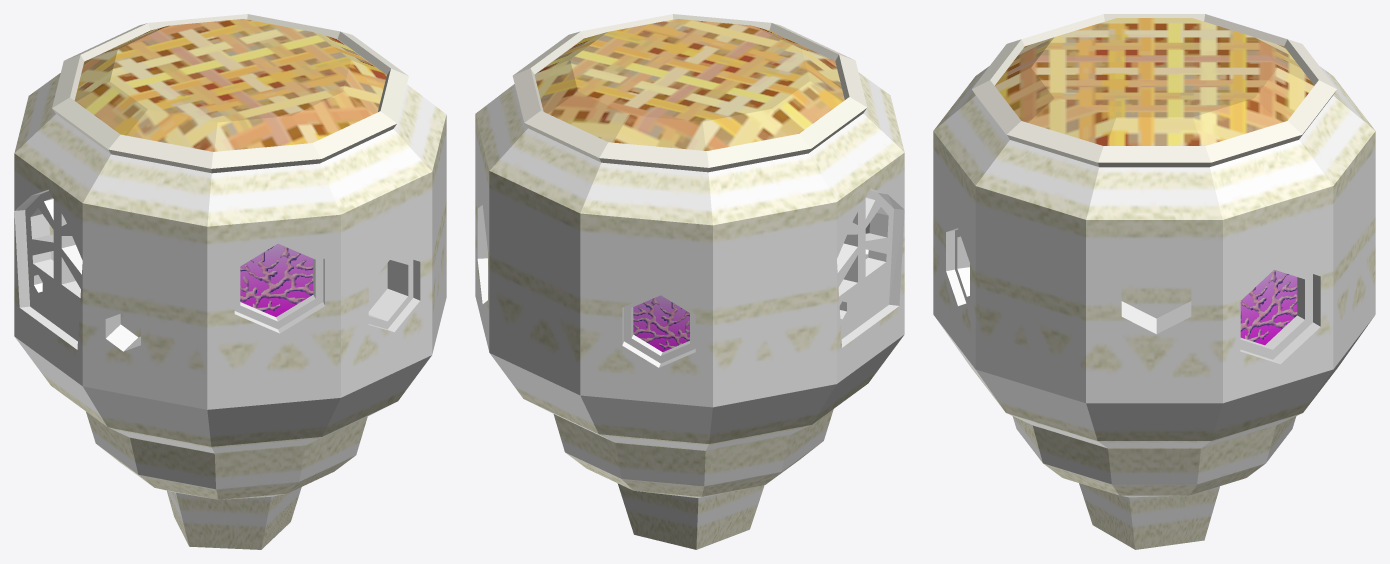
Rendered from marewaterjump_bake.dae.
3 views of the same model, side by side, from view 1: azimuth 30°, elevation 25°; view 2: azimuth 150°, elevation 25°; view 3: azimuth 270°, elevation 25° (orthographic).
Visible parts, largest first — view 1: m0, m1, m2_VC, m2; view 2: m0, m1, m2_VC, m2; view 3: m0, m1, m2_VC, m2.
Boxes of the visible parts, bbox=[...] form: m0: bbox=[14, 14, 446, 549]; m1: bbox=[74, 19, 386, 151]; m2_VC: bbox=[240, 243, 313, 316]; m2: bbox=[240, 246, 313, 311]; m0: bbox=[475, 14, 904, 549]; m1: bbox=[534, 19, 844, 150]; m2_VC: bbox=[633, 295, 689, 351]; m2: bbox=[633, 297, 689, 348]; m0: bbox=[933, 14, 1375, 549]; m1: bbox=[995, 18, 1313, 145]; m2_VC: bbox=[1240, 269, 1297, 345]; m2: bbox=[1240, 270, 1297, 341].
Bounding box in the file's own units: 802 × 962 × 844.
4 materials, 4 textured.
